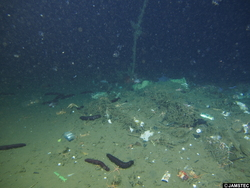fishing net: (149, 89, 240, 172), (84, 96, 131, 128), (209, 95, 245, 119), (192, 84, 226, 99)
plastic bag: (151, 96, 209, 139)
